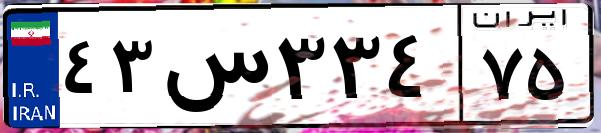3: (270, 28, 330, 110), (330, 28, 385, 110), (110, 28, 158, 98)
4: (385, 28, 445, 110), (57, 26, 110, 100)
5: (525, 38, 570, 115)
7: (475, 38, 525, 113)
س: (158, 20, 270, 120)
